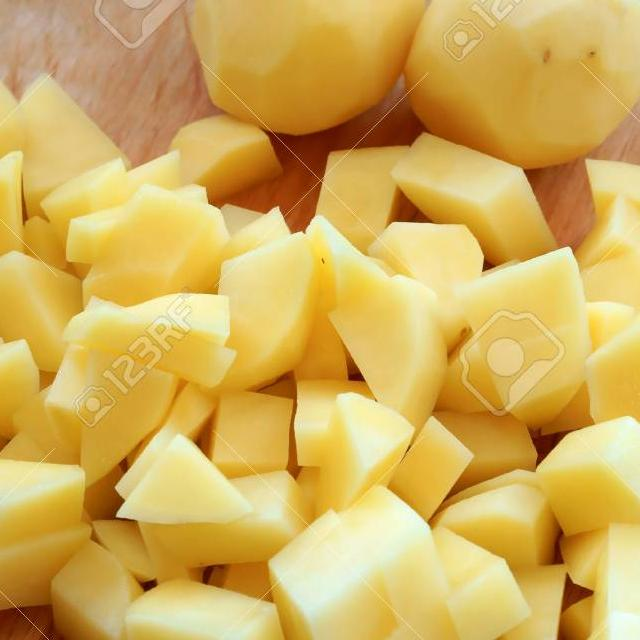potato: (0, 198, 640, 640)
